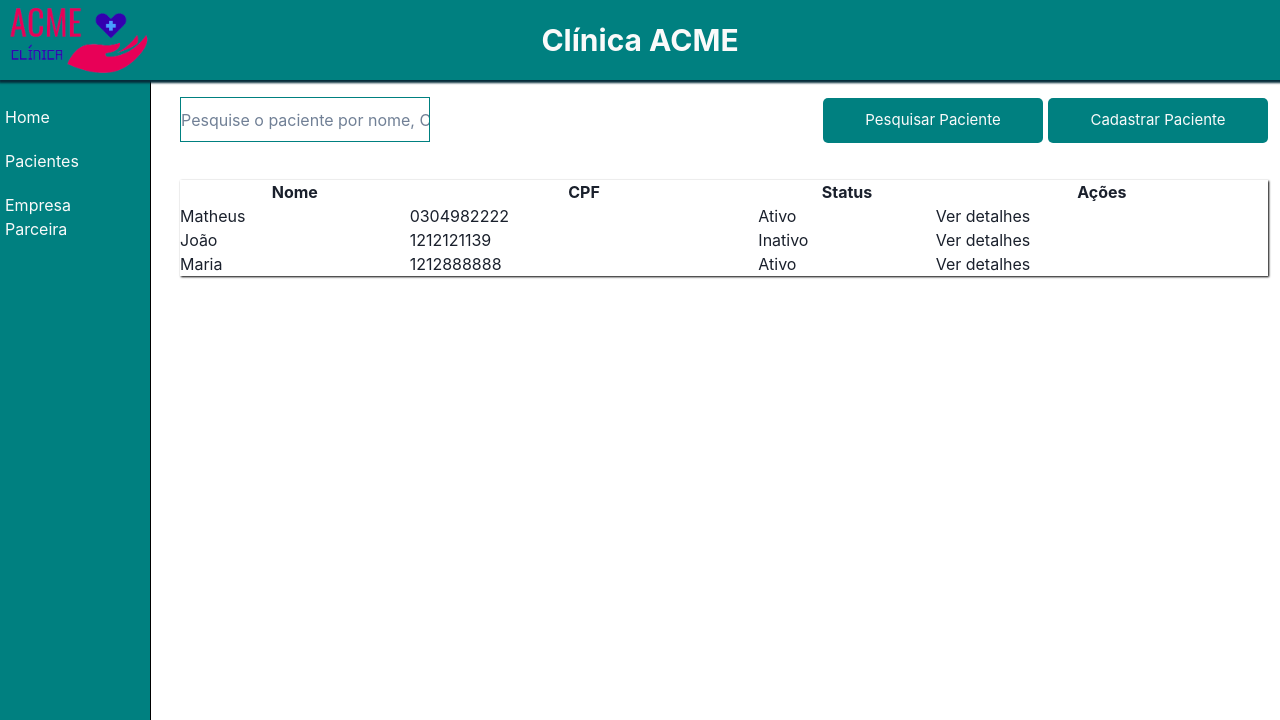
Test case: Testa se é possível filtrar os pacientes por nome, cpf e status através do input na função handleClickFilter › Se é possível filtrar os pacientes por nome
This screenshot has width=1280, height=720.
Type "Matheus" into the field with test id "search-input" at (305, 120), box [180,97,430,142]
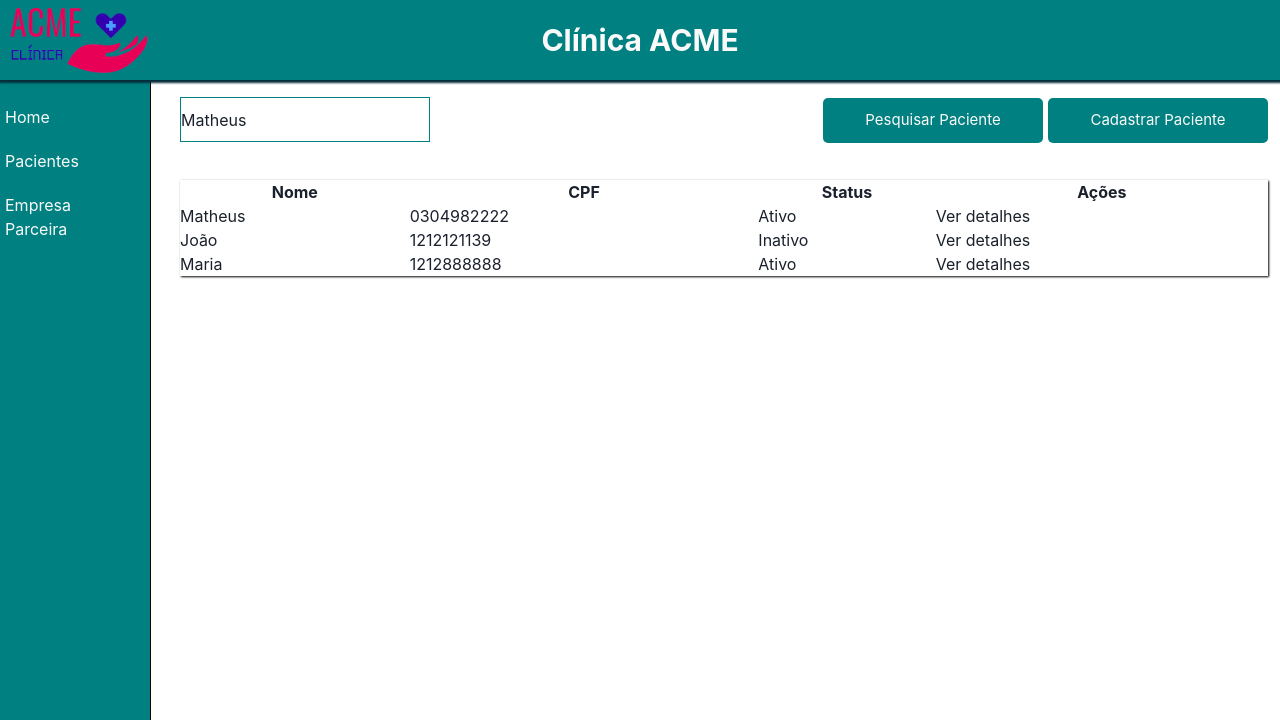
Click the button with test id "btn-search" at (933, 120), box [823,98,1043,142]
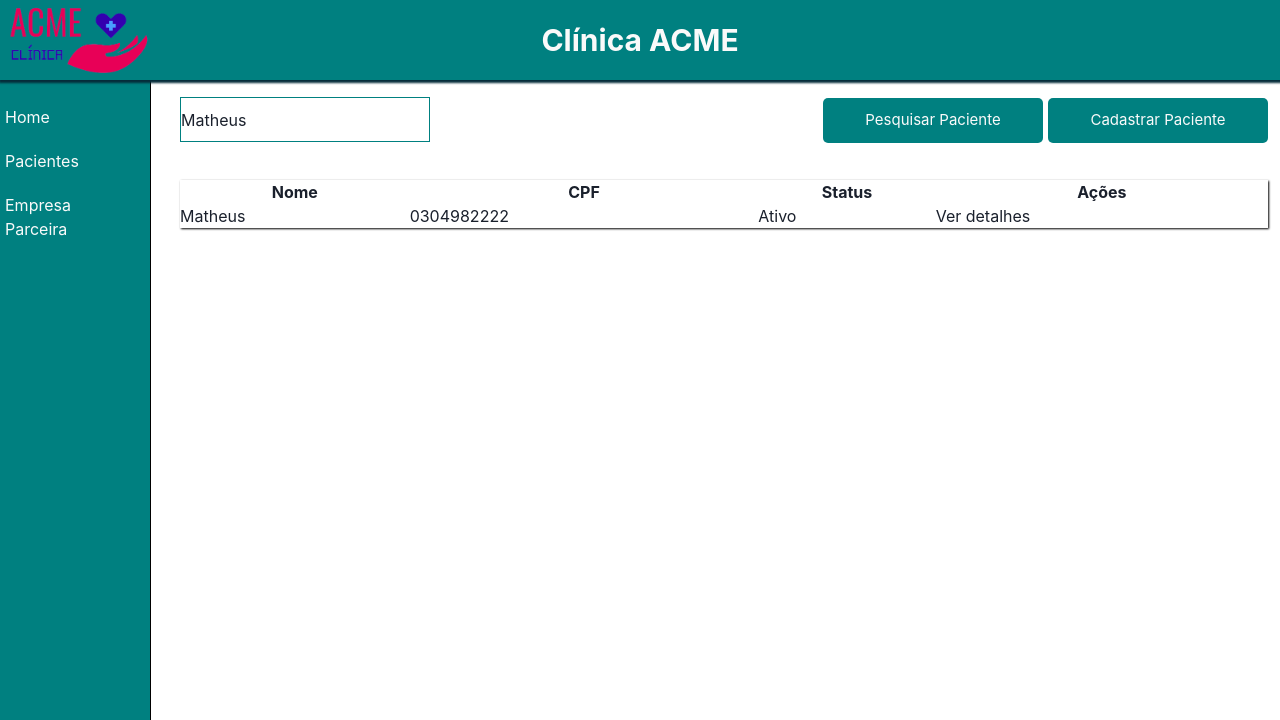
Expected: the text "Matheus" is shown, [180,204,410,228]
Replace the text in the field with test id "search-input" with "João" at (305, 120), box [180,97,430,142]
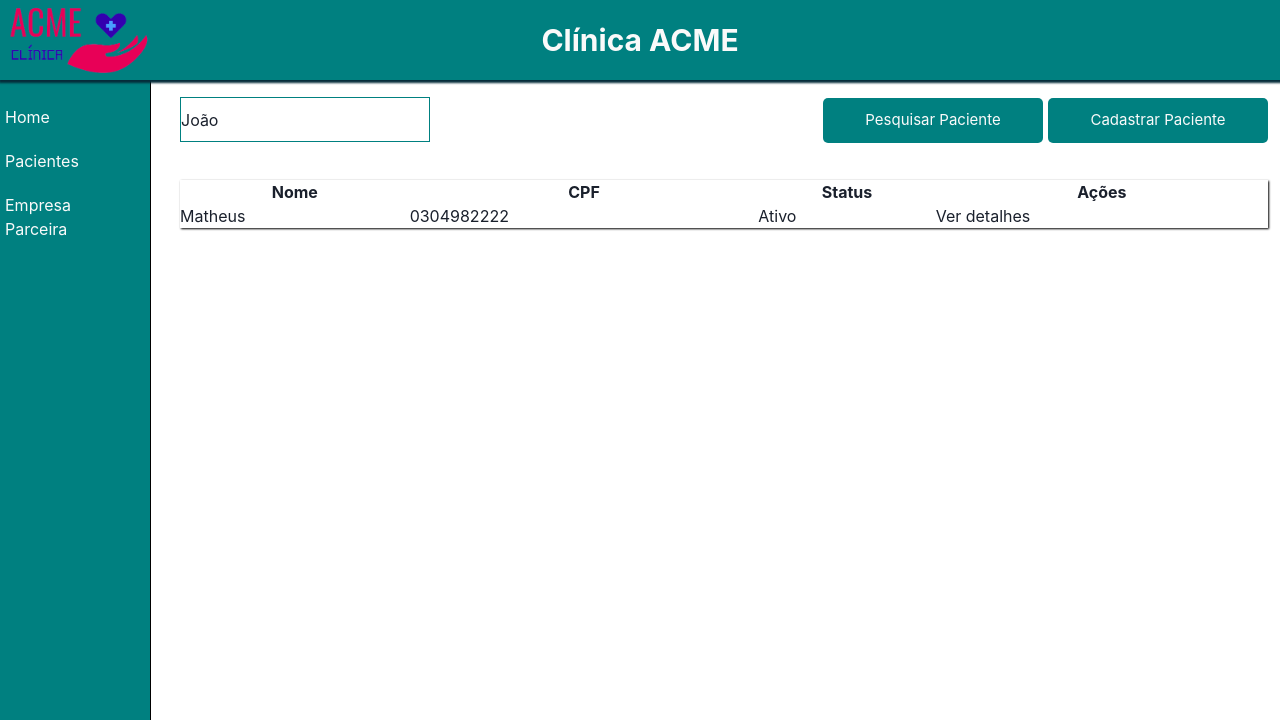
Click the button with test id "btn-search" at (933, 120), box [823,98,1043,142]
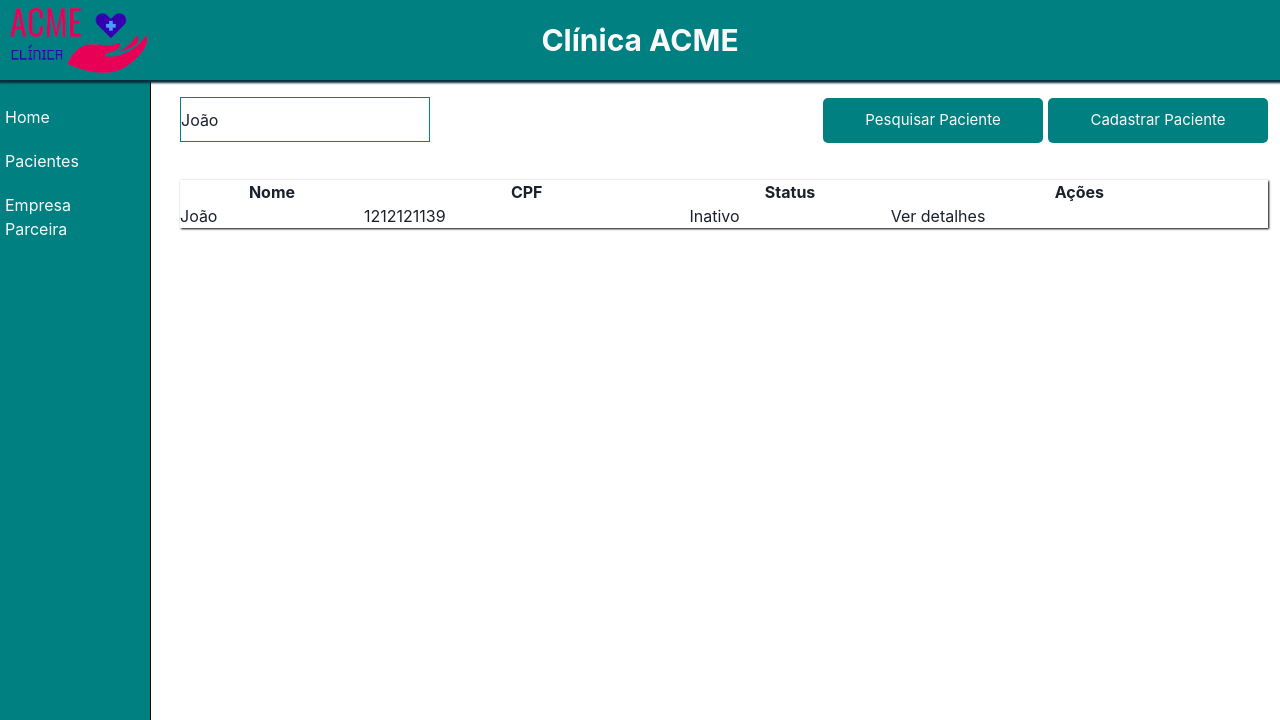
Result: the text "João" is shown at [180,204,364,228]
Replace the text in the field with test id "search-input" with "Maria" at (305, 120), box [180,97,430,142]
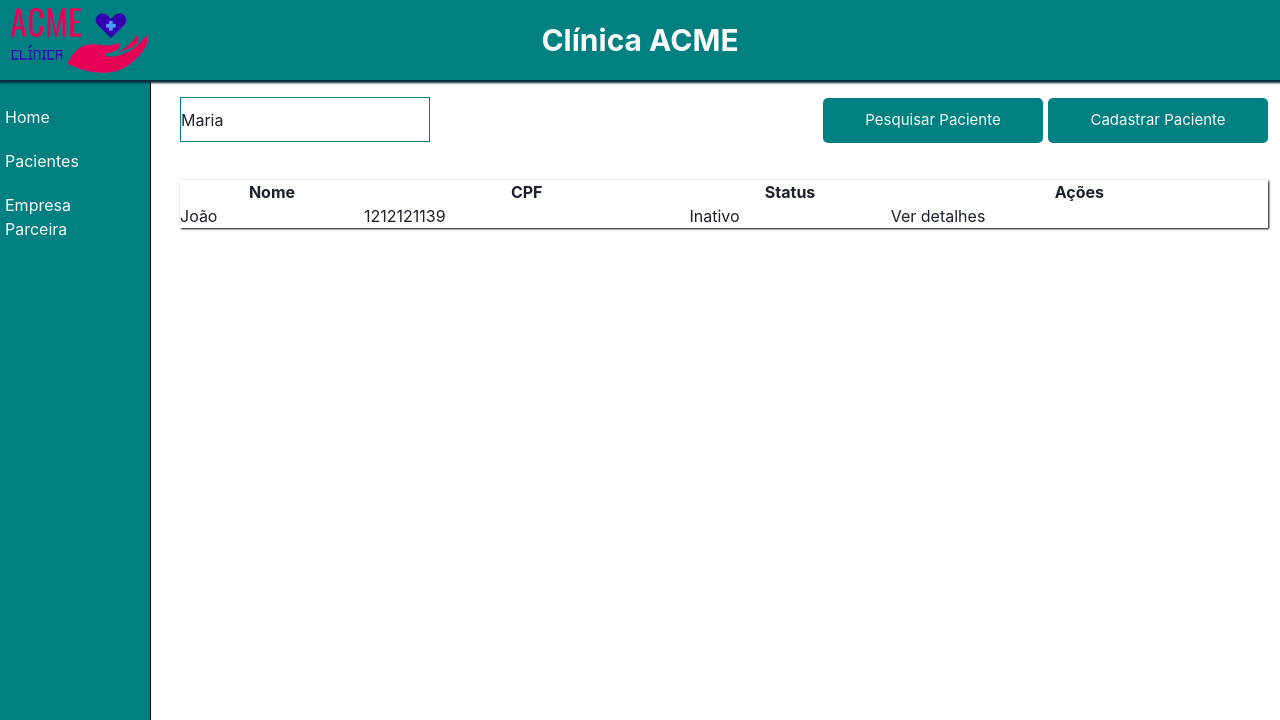
Click the button with test id "btn-search" at (933, 120), box [823,98,1043,142]
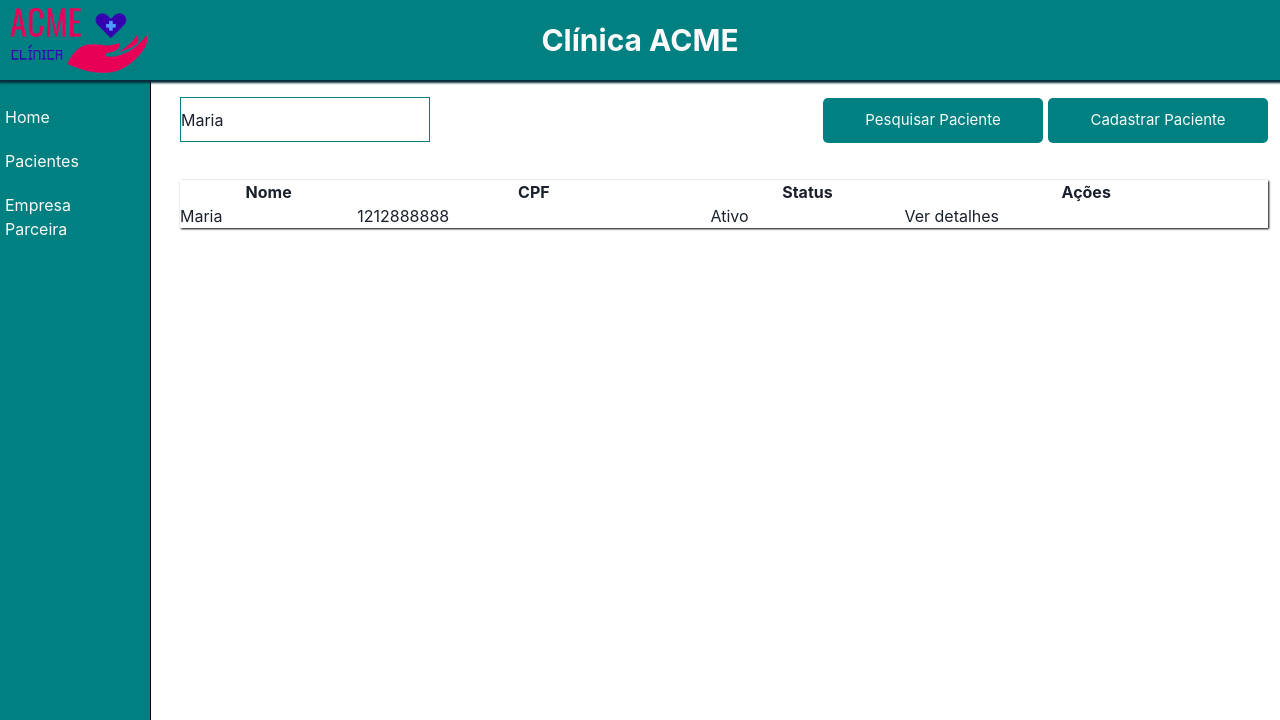
Result: the text "Maria" is shown at [180,204,357,228]
